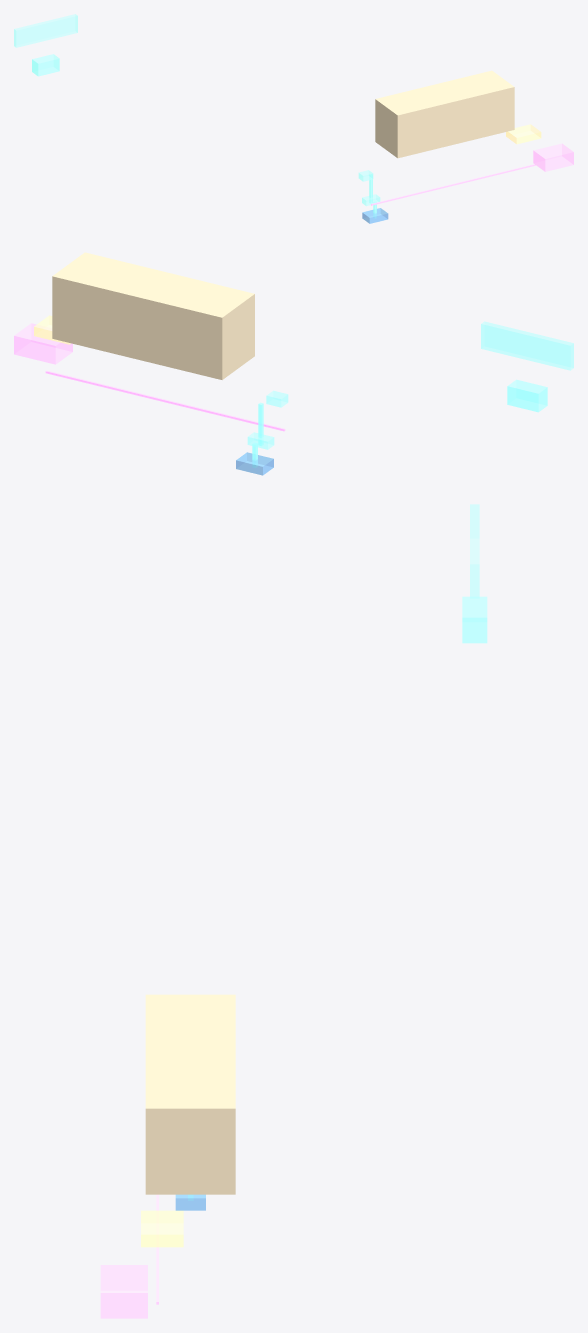
Rendered from cylinder-shaft.gltf.
The picture shows the model from 3 angles, top to bottom: view 1: azimuth 30°, elevation 25°; view 2: azimuth 150°, elevation 25°; view 3: azimuth 270°, elevation 25°; orthographic projection. The views are drawn at different scales.
Parts seen in each view (by area): view 1: SphinxBody_Shape, KhufuBigVoid_Shape, HallOfRecords_Shape, KhufuKingsChamber_Shape, SphinxPawVoid_Shape, UndergroundLink_Shape, OsirisLevel3Water_Shape; view 2: SphinxBody_Shape, KhufuBigVoid_Shape, HallOfRecords_Shape, KhufuKingsChamber_Shape, UndergroundLink_Shape, OsirisLevel3Water_Shape, SphinxPawVoid_Shape, OsirisChamberB_Shape, OsirisChamberA_Shape; view 3: SphinxBody_Shape, HallOfRecords_Shape, SphinxPawVoid_Shape, KhufuKingsChamber_Shape.
Boxes of the visible parts, x1,y1,x2,y2 form: SphinxBody_Shape: (375, 70, 514, 158); KhufuBigVoid_Shape: (14, 14, 77, 47); HallOfRecords_Shape: (533, 143, 573, 171); KhufuKingsChamber_Shape: (32, 54, 59, 76); SphinxPawVoid_Shape: (506, 124, 541, 144); UndergroundLink_Shape: (371, 164, 535, 205); OsirisLevel3Water_Shape: (362, 208, 388, 223); SphinxBody_Shape: (52, 252, 254, 379); KhufuBigVoid_Shape: (481, 321, 573, 370); HallOfRecords_Shape: (14, 323, 72, 364); KhufuKingsChamber_Shape: (507, 379, 547, 412); UndergroundLink_Shape: (45, 371, 285, 431); OsirisLevel3Water_Shape: (236, 452, 273, 475); SphinxPawVoid_Shape: (34, 315, 70, 344); OsirisChamberB_Shape: (247, 432, 274, 449); OsirisChamberA_Shape: (266, 390, 288, 407); SphinxBody_Shape: (145, 994, 235, 1194); HallOfRecords_Shape: (100, 1265, 147, 1318); SphinxPawVoid_Shape: (141, 1210, 183, 1247); KhufuKingsChamber_Shape: (462, 596, 487, 643).
Bounding box in the file's own units: 227 × 96.77 × 81.62.
